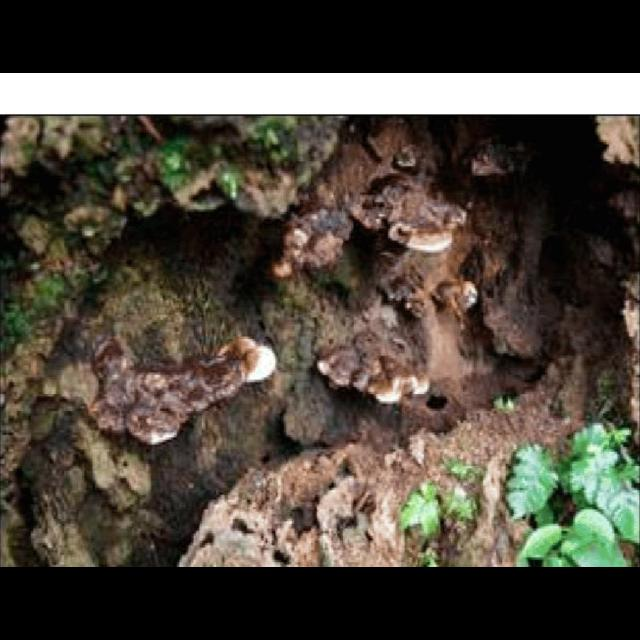ganoderma: (90, 338, 228, 448), (315, 327, 434, 407), (355, 181, 471, 255)
primordium: (225, 336, 282, 384)
